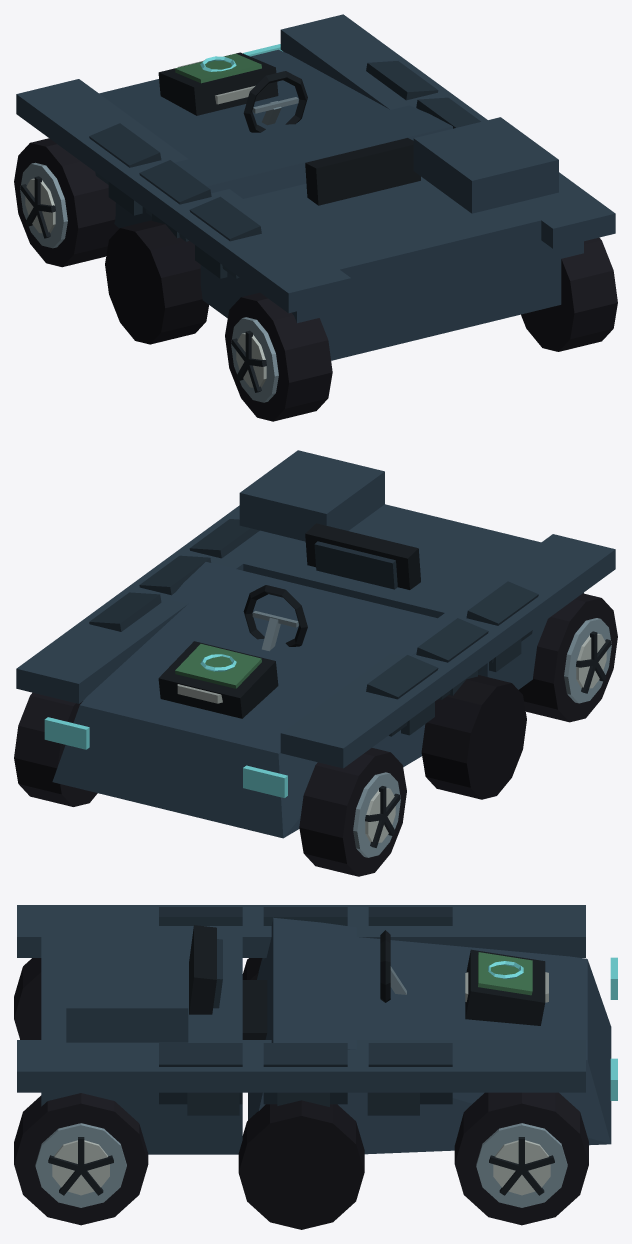
File: kart.glb
The picture shows the model from 3 angles, top to bottom: view 1: azimuth 30°, elevation 25°; view 2: azimuth 150°, elevation 25°; view 3: azimuth 270°, elevation 25°; orthographic projection. The views are drawn at different scales.
Visible parts, largest first — view 1: identity-apc-apc-armored-hull, wheel-rear-left, wheel-front-left, identity-apc-motif-armor, identity-apc-driver-cockpit, wheel-rear-right, identity-apc-motif-scanner; view 2: identity-apc-apc-armored-hull, wheel-front-left, identity-apc-motif-armor, wheel-rear-left, identity-apc-driver-cockpit, identity-apc-motif-scanner, wheel-front-right; view 3: identity-apc-apc-armored-hull, wheel-front-right, wheel-rear-right, identity-apc-motif-armor, identity-apc-motif-scanner, identity-apc-driver-cockpit, wheel-rear-left.
Boxes of the visible parts, bbox=[...] form: identity-apc-apc-armored-hull: bbox=[16, 14, 615, 360]; wheel-rear-left: bbox=[225, 292, 332, 421]; wheel-front-left: bbox=[14, 138, 119, 267]; identity-apc-motif-armor: bbox=[89, 61, 480, 278]; identity-apc-driver-cockpit: bbox=[243, 71, 420, 205]; wheel-rear-right: bbox=[521, 237, 617, 351]; identity-apc-motif-scanner: bbox=[158, 52, 278, 115]; identity-apc-apc-armored-hull: bbox=[16, 450, 615, 838]; wheel-front-left: bbox=[299, 748, 406, 876]; identity-apc-motif-armor: bbox=[89, 519, 538, 736]; wheel-rear-left: bbox=[519, 593, 617, 722]; identity-apc-driver-cockpit: bbox=[243, 523, 420, 651]; identity-apc-motif-scanner: bbox=[158, 641, 278, 718]; wheel-front-right: bbox=[14, 692, 97, 806]; identity-apc-apc-armored-hull: bbox=[17, 905, 617, 1229]; wheel-front-right: bbox=[454, 1092, 588, 1225]; wheel-rear-right: bbox=[14, 1093, 148, 1225]; identity-apc-motif-armor: bbox=[159, 907, 452, 1104]; identity-apc-motif-scanner: bbox=[465, 949, 545, 1025]; identity-apc-driver-cockpit: bbox=[189, 925, 406, 1039]; wheel-rear-left: bbox=[14, 958, 41, 1039].
Bounding box in the file's own units: 2.08 × 1.09 × 2.88.
